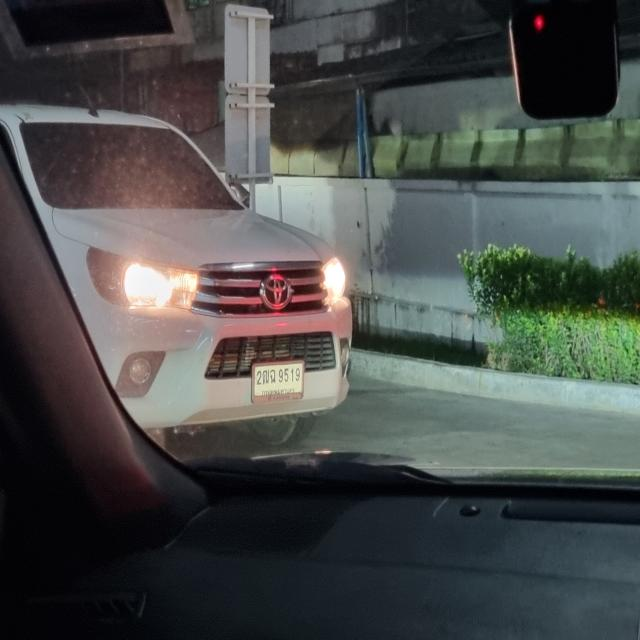license_plate: (250, 359, 306, 407)
